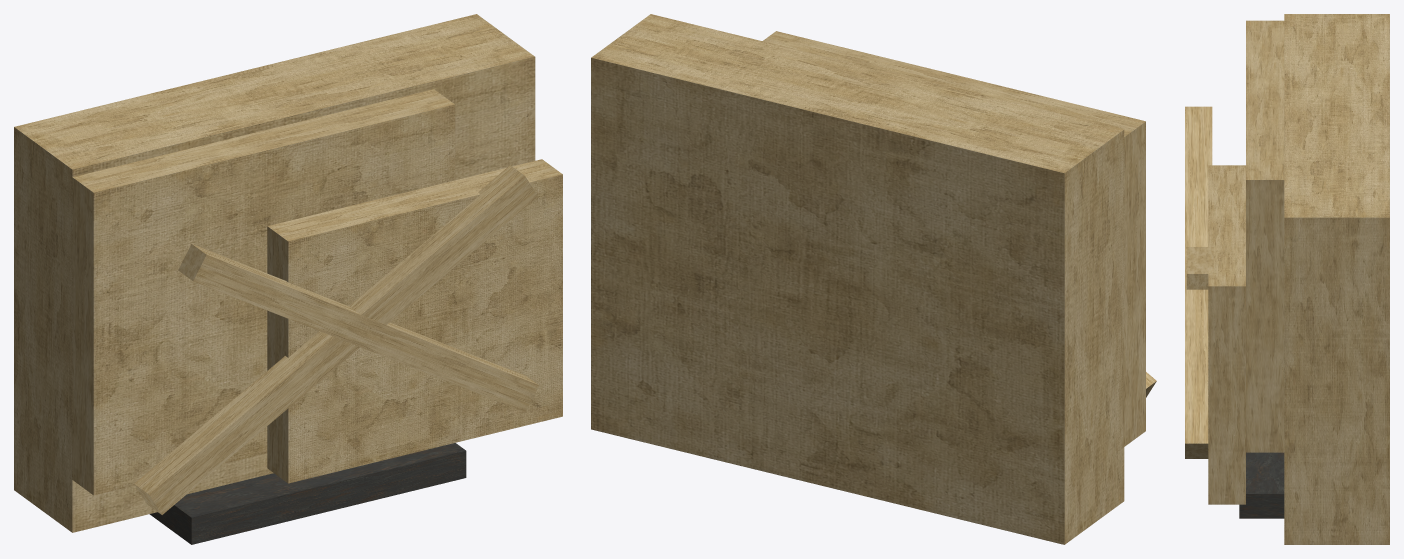
Rendered from ITM_CLOTH_001.obj.
The picture shows the model from 3 angles, left to right: view 1: azimuth 30°, elevation 25°; view 2: azimuth 150°, elevation 25°; view 3: azimuth 270°, elevation 25°; orthographic projection. The views are drawn at different scales.
Parts seen in each view (by area): view 1: ReadableFoldLayerA, FoldedClothBase, ReadableFoldLayerB, BroadFoldSeamA, BroadFoldSeamB, PrimaryGripEdge; view 2: FoldedClothBase, ReadableFoldLayerA; view 3: FoldedClothBase, ReadableFoldLayerA, ReadableFoldLayerB, BroadFoldSeamB, PrimaryGripEdge, BroadFoldSeamA.
Part boxes in pixels (box(x1,y1,x2,y2)): ReadableFoldLayerA: box(64, 89, 455, 495); FoldedClothBase: box(14, 14, 535, 532); ReadableFoldLayerB: box(267, 159, 562, 483); BroadFoldSeamA: box(134, 165, 537, 514); BroadFoldSeamB: box(178, 244, 538, 411); PrimaryGripEdge: box(149, 443, 466, 544); FoldedClothBase: box(591, 14, 1124, 544); ReadableFoldLayerA: box(762, 31, 1145, 452); FoldedClothBase: box(1284, 14, 1389, 544); ReadableFoldLayerA: box(1246, 20, 1284, 452); ReadableFoldLayerB: box(1208, 165, 1245, 504); BroadFoldSeamB: box(1185, 106, 1212, 458); PrimaryGripEdge: box(1239, 452, 1284, 518); BroadFoldSeamA: box(1186, 247, 1213, 289).
Size of the model in its own units: 0.32 by 0.251 by 0.136.
Materials: 3 (3 with a texture image).
